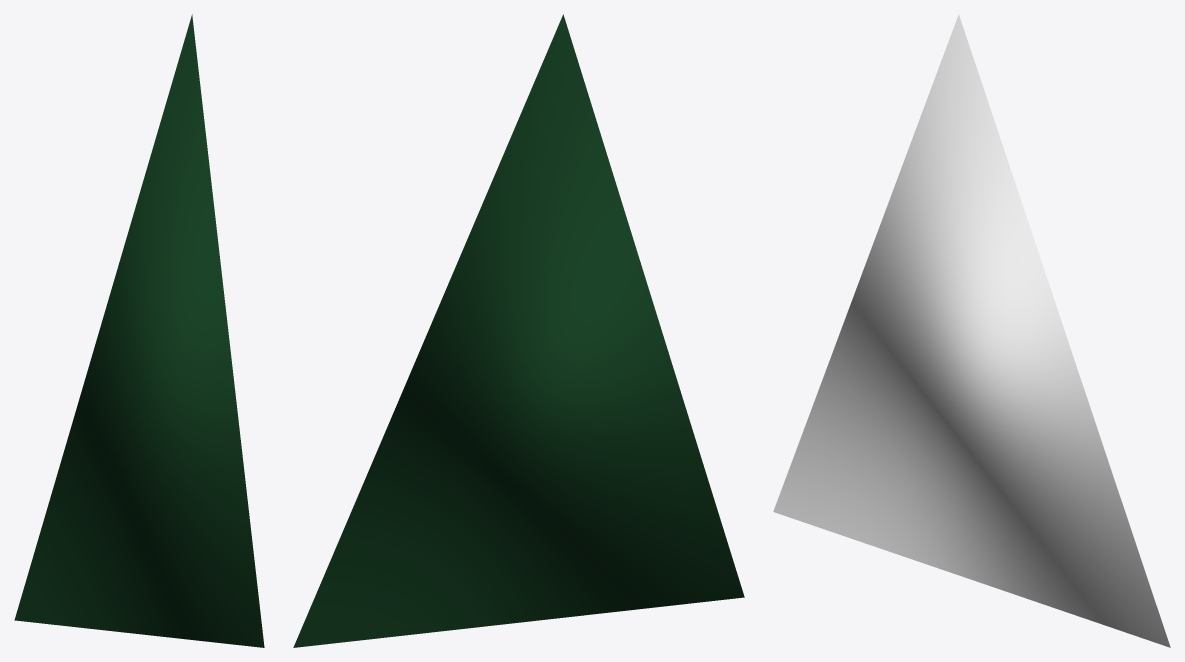
The model's file is pine4Snow_distant.glb.
3 renders of one model, left to right at view 1: azimuth 30°, elevation 25°; view 2: azimuth 150°, elevation 25°; view 3: azimuth 270°, elevation 25°, orthographic. The views are drawn at different scales.
Parts seen in each view (by area): view 1: Cube; view 2: Cube; view 3: Cube.
Boxes of the visible parts, bbox=[...] form: Cube: bbox=[14, 14, 264, 647]; Cube: bbox=[293, 14, 744, 647]; Cube: bbox=[773, 14, 1170, 647].
Bounding box in the file's own units: 7.66 × 12.9 × 8.29.
